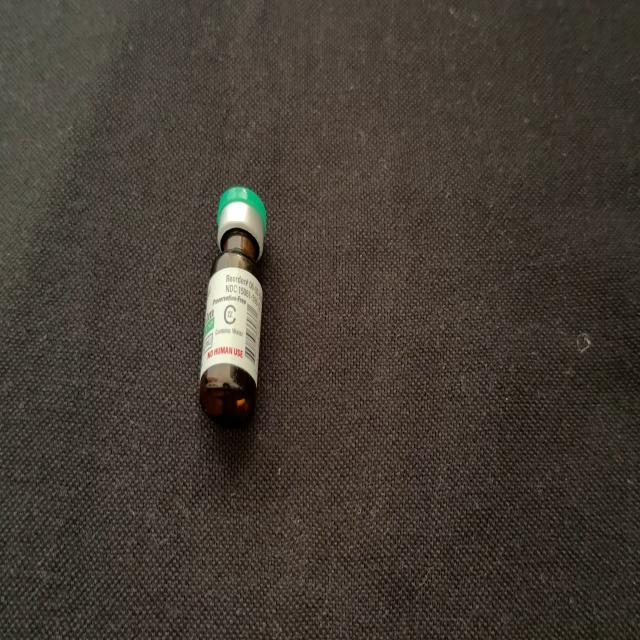midazolm: (200, 190, 266, 420)
